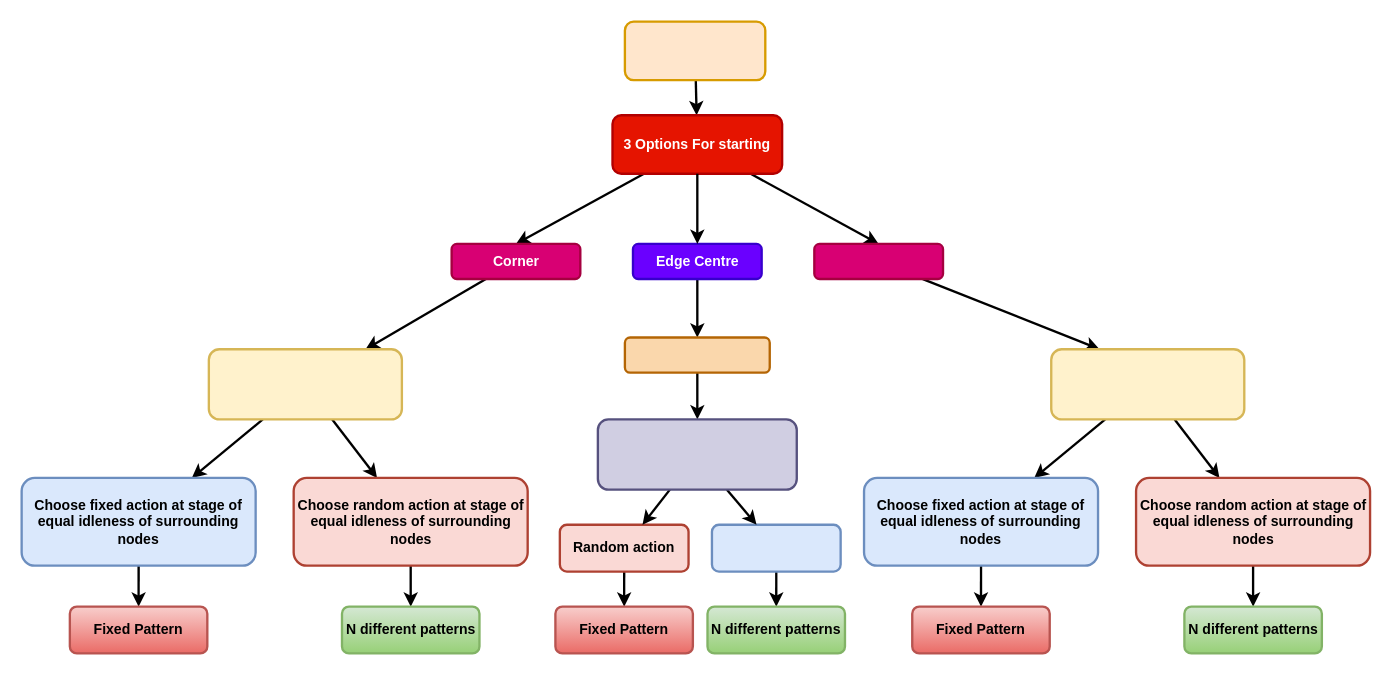
Some shapes in this 1391 by 674 pixel diagram are drawn without their labels. The centre of each missing label's shape, as x and y in pixels:
"1st, 3rd same pattern and 2nd has different pattern" belongs at [696,454].
"2 Nodes around it, but has equal behaviour" belongs at [304,383].
"3 Nodes arround" belongs at [696,354].
"4 Nodes around it, but has equal behaviour" belongs at [1147,383].
"Centre" belongs at [878,261].
"Fixed action" belongs at [775,547].
"with 1 car" belongs at [694,50].
